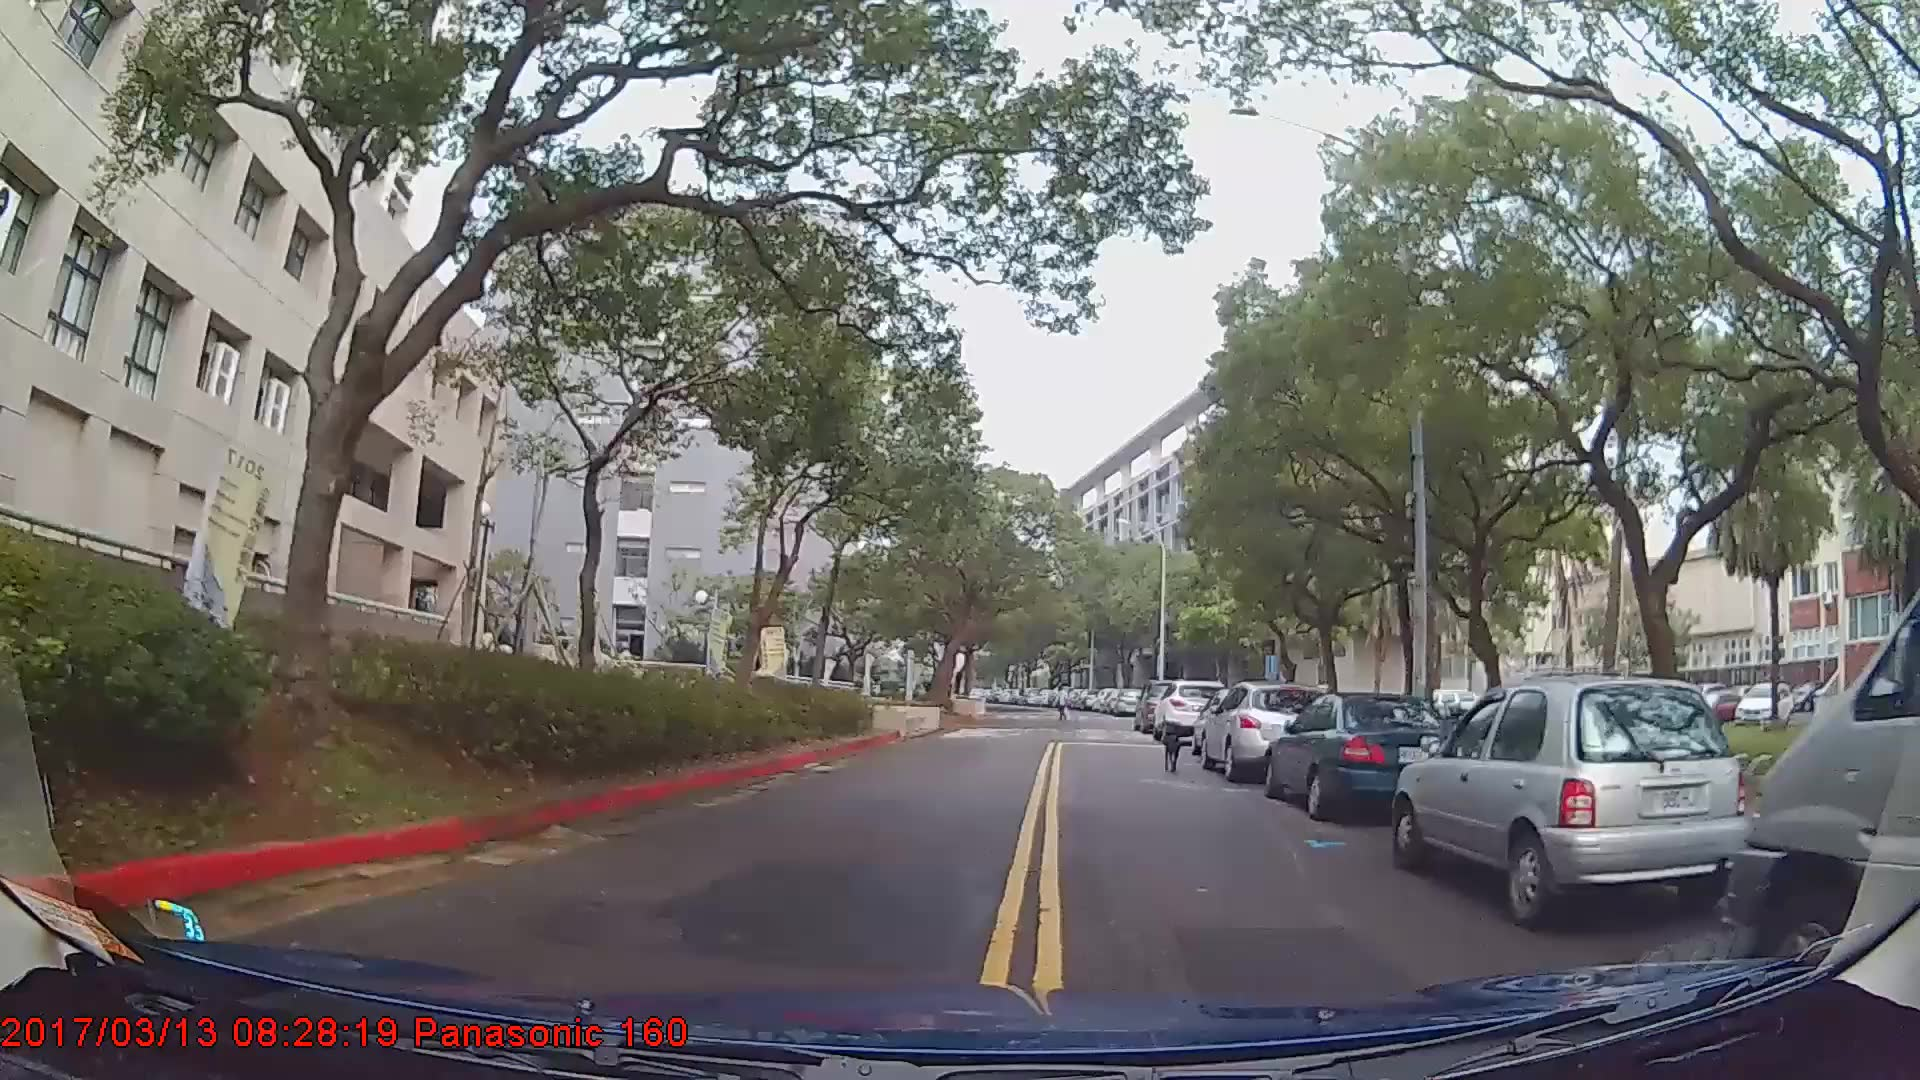pedestrian: (1055, 686, 1075, 724)
vehicle: (1394, 673, 1749, 925), (1728, 592, 1920, 1017), (1264, 691, 1475, 826), (1198, 679, 1330, 783), (1153, 680, 1230, 746)
